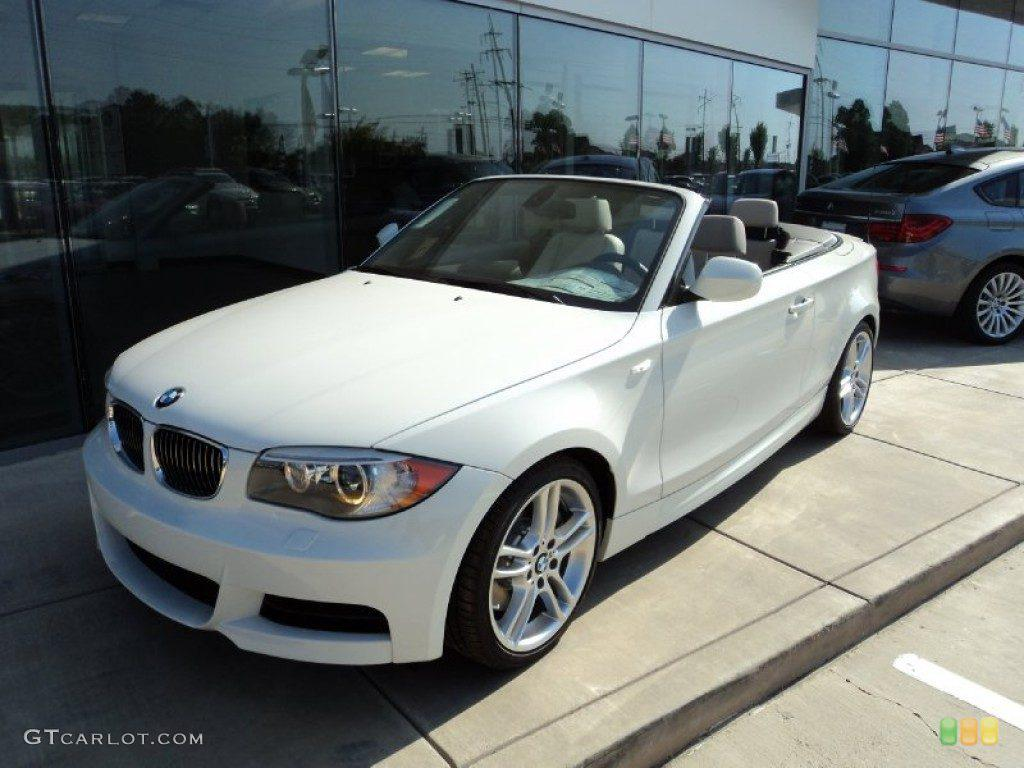Car: (51, 140, 920, 700), (780, 120, 1023, 356)
